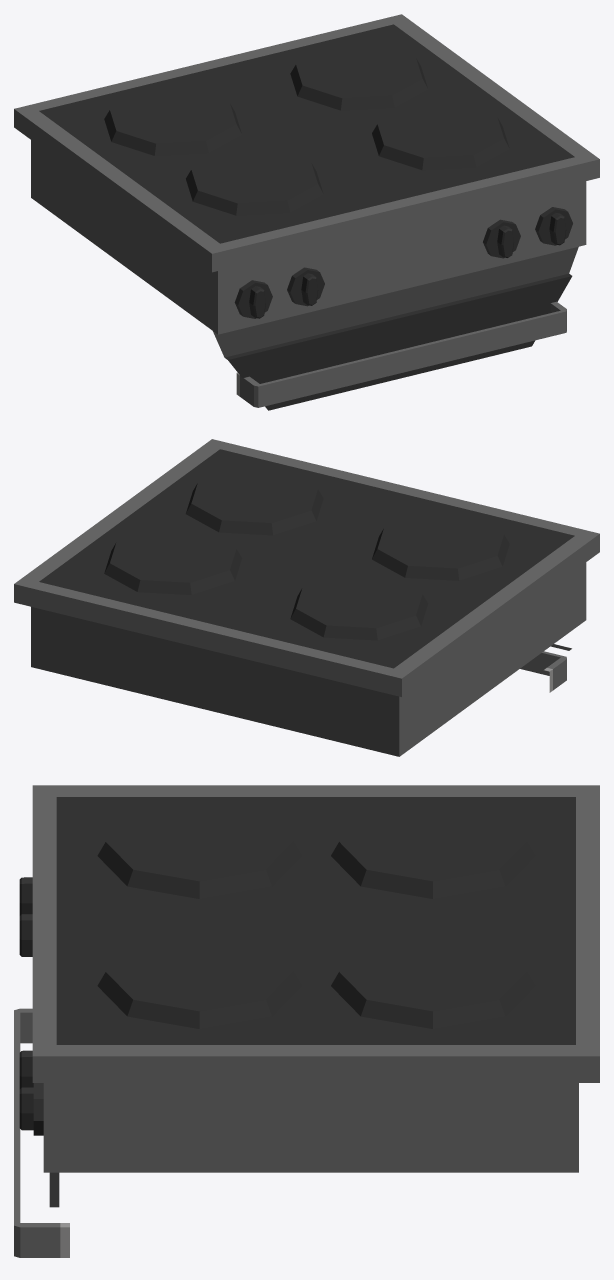
The picture shows the model from 3 angles, top to bottom: view 1: azimuth 30°, elevation 25°; view 2: azimuth 150°, elevation 25°; view 3: azimuth 270°, elevation 25°; orthographic projection. The views are drawn at different scales.
Parts seen in each view (by area): view 1: world; view 2: world; view 3: world.
Part boxes in pixels (<box>): world: <box>14,14,599,410</box>; world: <box>14,439,599,756</box>; world: <box>14,785,599,1257</box>.
Size of the model in its own units: 0.8199 by 0.3762 by 0.7493.
Materials: 1 (1 with a texture image).
